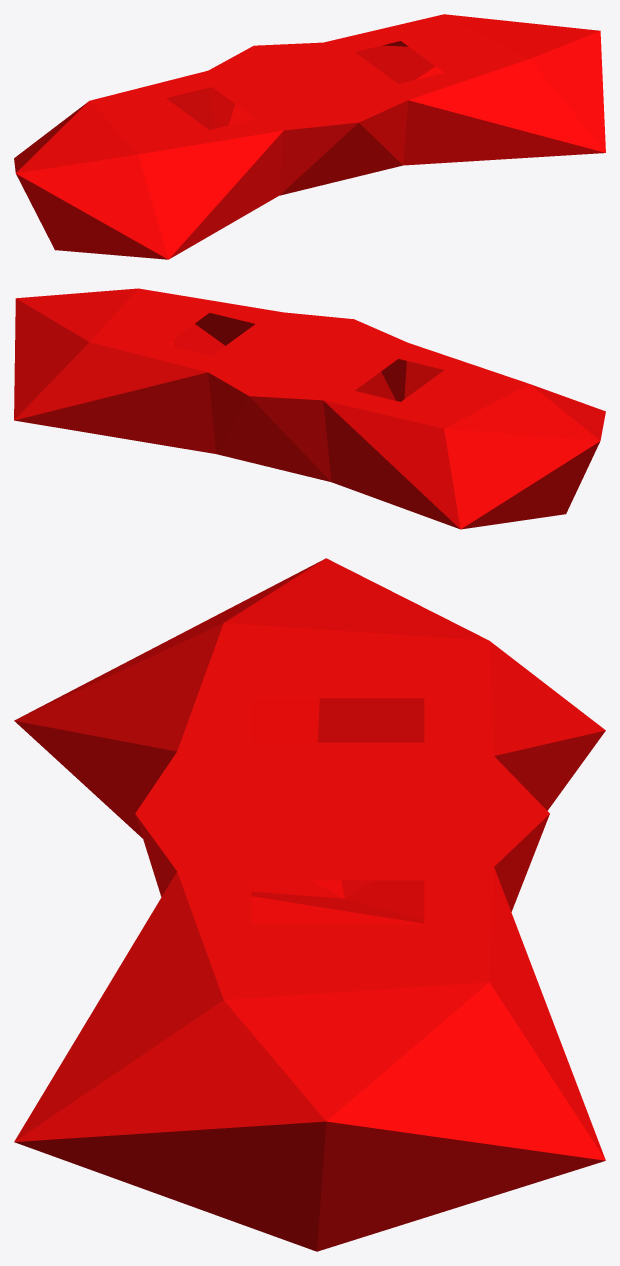
Rendered from polimnd-bow-tie.fbx.
3 renders of one model, top to bottom at view 1: azimuth 30°, elevation 25°; view 2: azimuth 150°, elevation 25°; view 3: azimuth 270°, elevation 25°, orthographic. The views are drawn at different scales.
Visible parts, largest first — view 1: 4; view 2: 4; view 3: 4.
Boxes of the visible parts, box(x1,y1,x2,y2) form: 4: box(14, 14, 605, 259); 4: box(14, 288, 605, 529); 4: box(14, 558, 605, 1251).
Size of the model in its own units: 1200 by 199 by 533.
